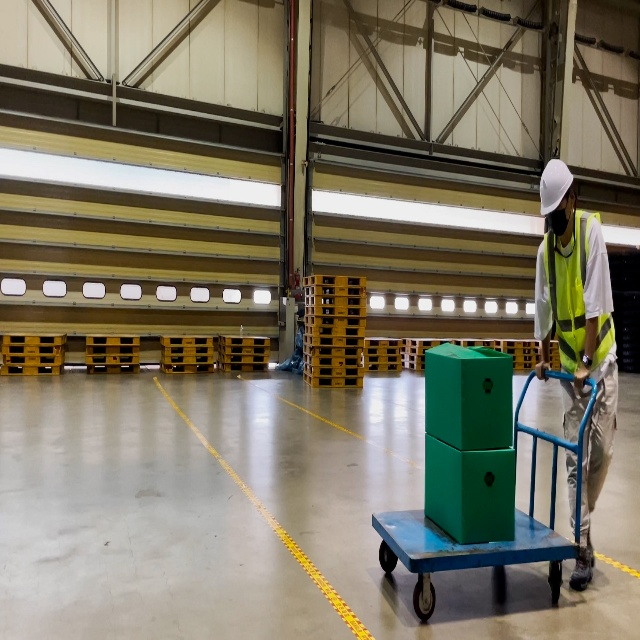Box: (424, 432, 515, 545), (425, 342, 513, 450)
Worker: (534, 159, 618, 591)
